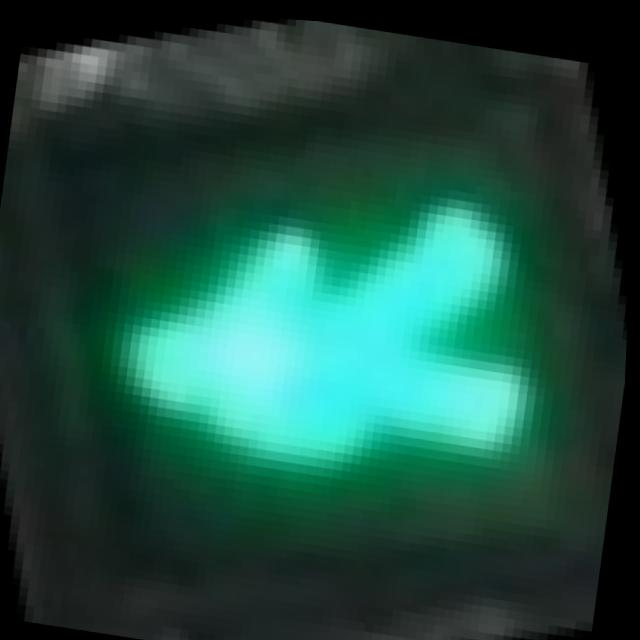green_light: (26, 85, 578, 570)
